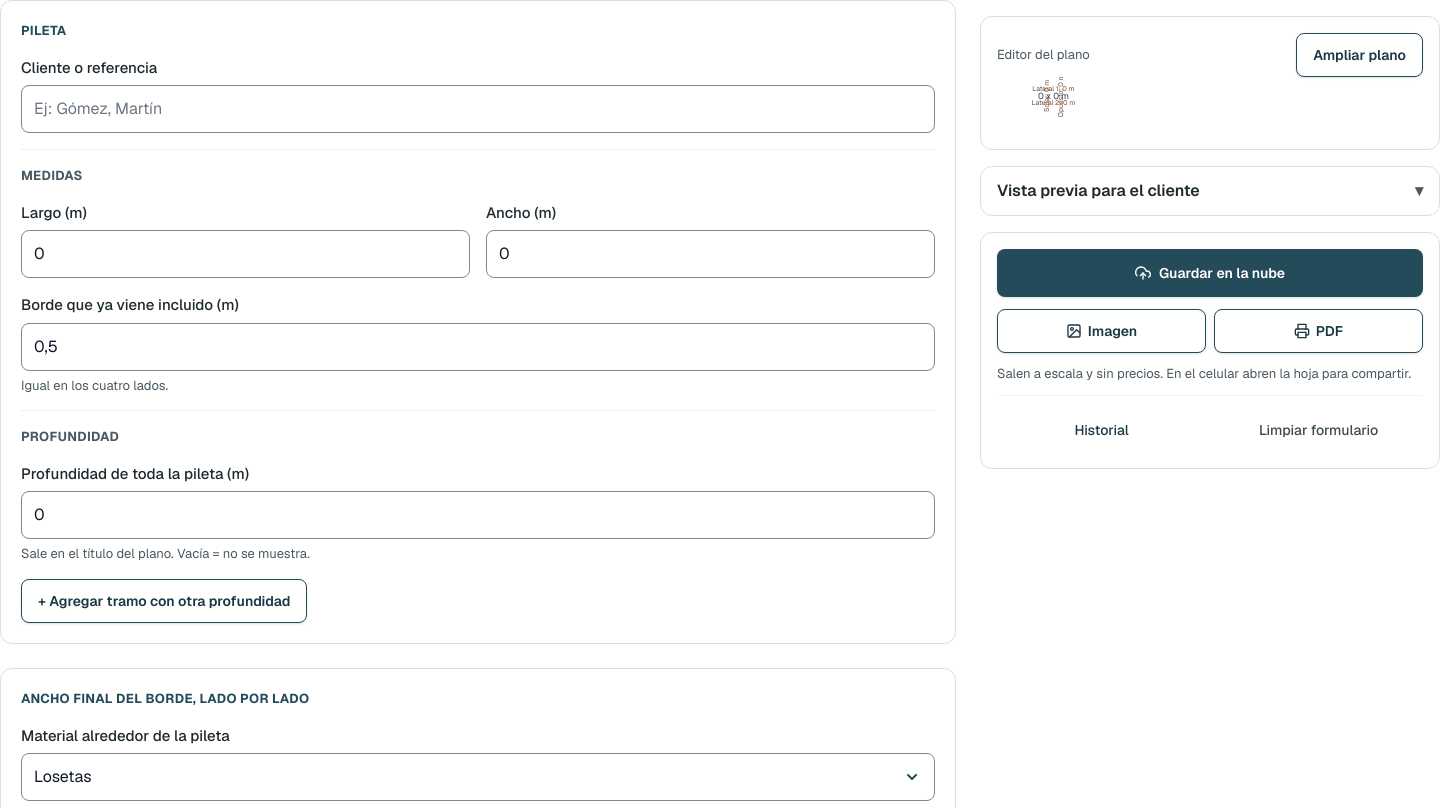
Test case: LosetasCalculadora · profundidad › se puede quitar un tramo
The width and height of the screenshot is (1440, 808).
Step 1. Click the button "+ Agregar tramo con otra profundidad" → (164, 601), box [21, 579, 308, 623]
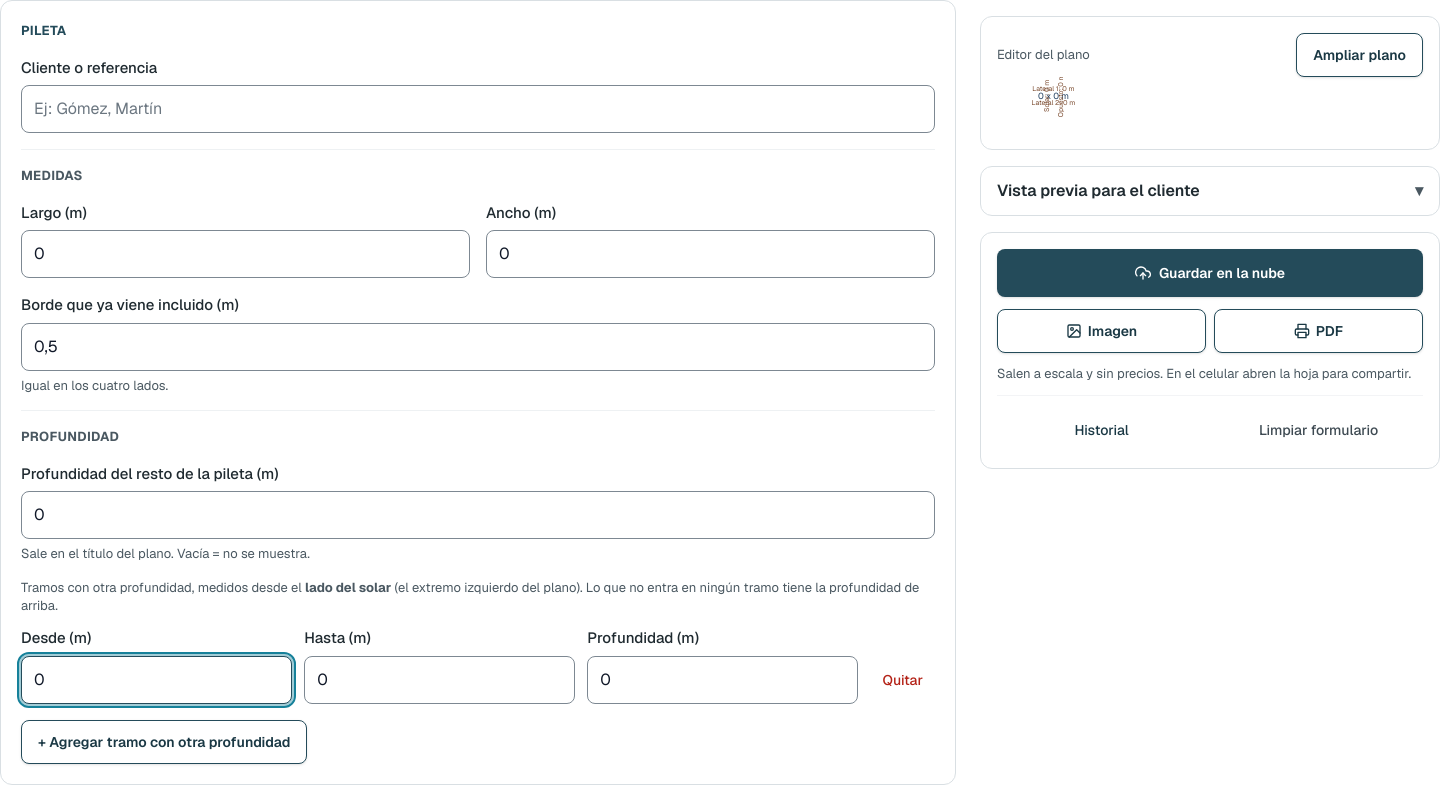
Now the field labelled "Hasta (m)" is shown, box [304, 656, 575, 704]
Step 2. Click the button with aria-label "Quitar el tramo 1" → (903, 680), box [870, 658, 935, 702]
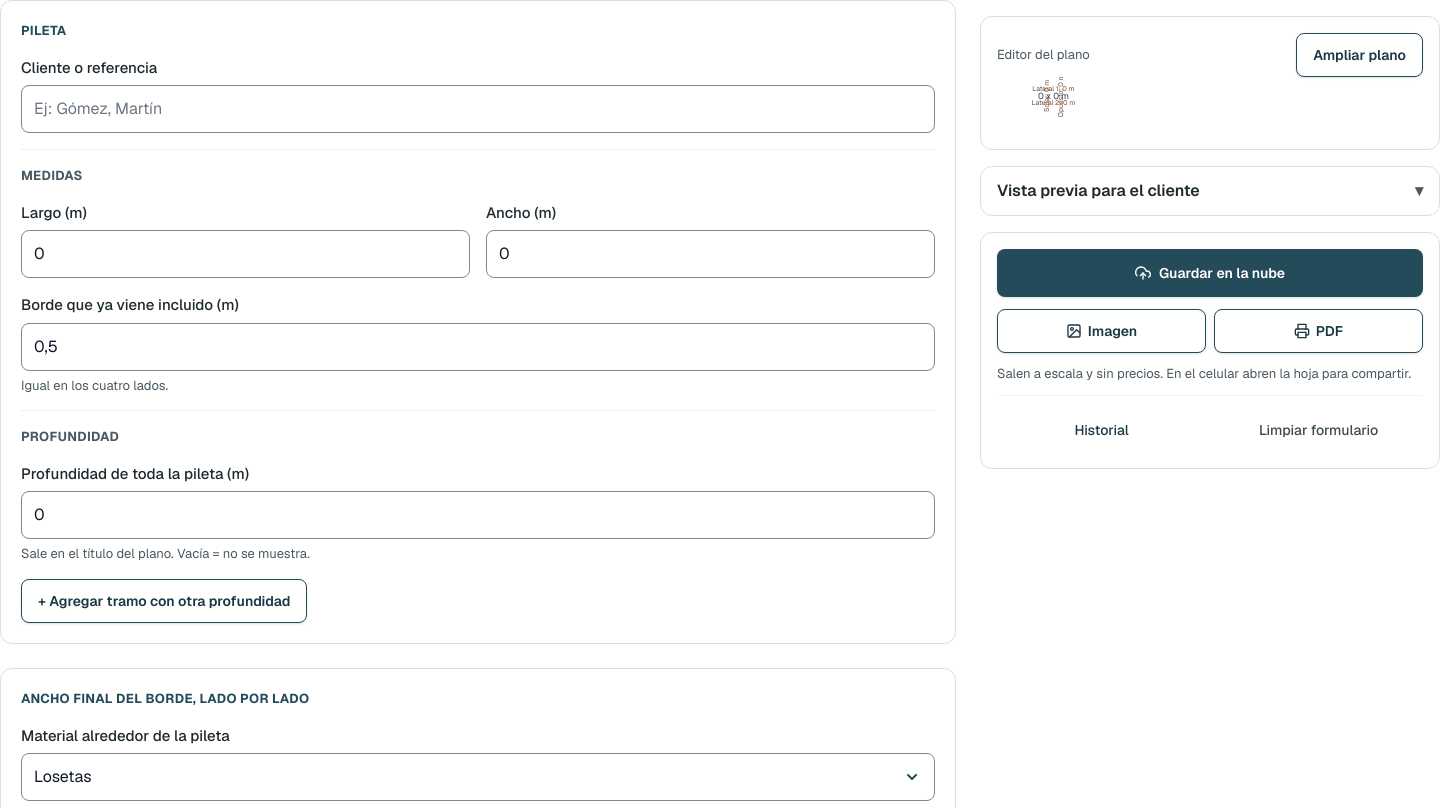
Expected: the field labelled "Profundidad de toda la pileta (m)" is shown, [21, 491, 935, 539]
Now the label labelled "Hasta (m)" is gone
